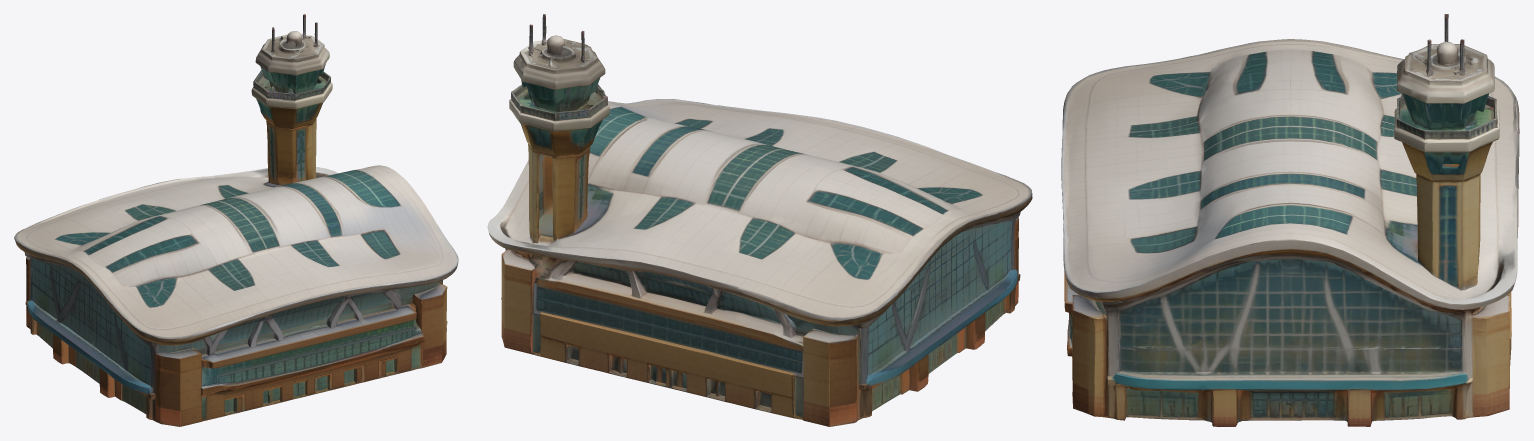
File: lm_airport_terminal_nb.glb
3 renders of one model, left to right at view 1: azimuth 30°, elevation 25°; view 2: azimuth 150°, elevation 25°; view 3: azimuth 270°, elevation 25°, orthographic. The views are drawn at different scales.
Visible parts, largest first — view 1: geometry_0; view 2: geometry_0; view 3: geometry_0.
Part boxes in pixels (left/top/right/bottom): geometry_0: left=14, top=14, right=458, bottom=426; geometry_0: left=487, top=14, right=1032, bottom=426; geometry_0: left=1061, top=14, right=1519, bottom=426.
Size of the model in its own units: 141 by 106 by 120.
1 material, 1 textured.
